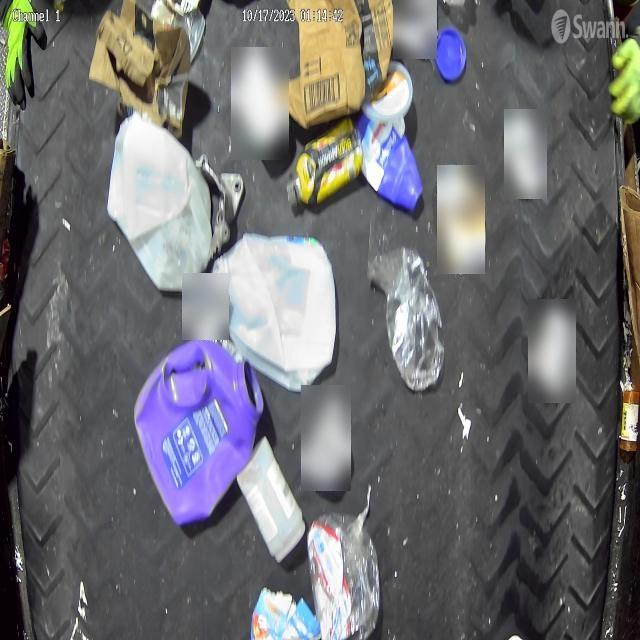milk_jug: (224, 230, 336, 390), (108, 116, 211, 288)
non_white_jug: (134, 339, 261, 526)
